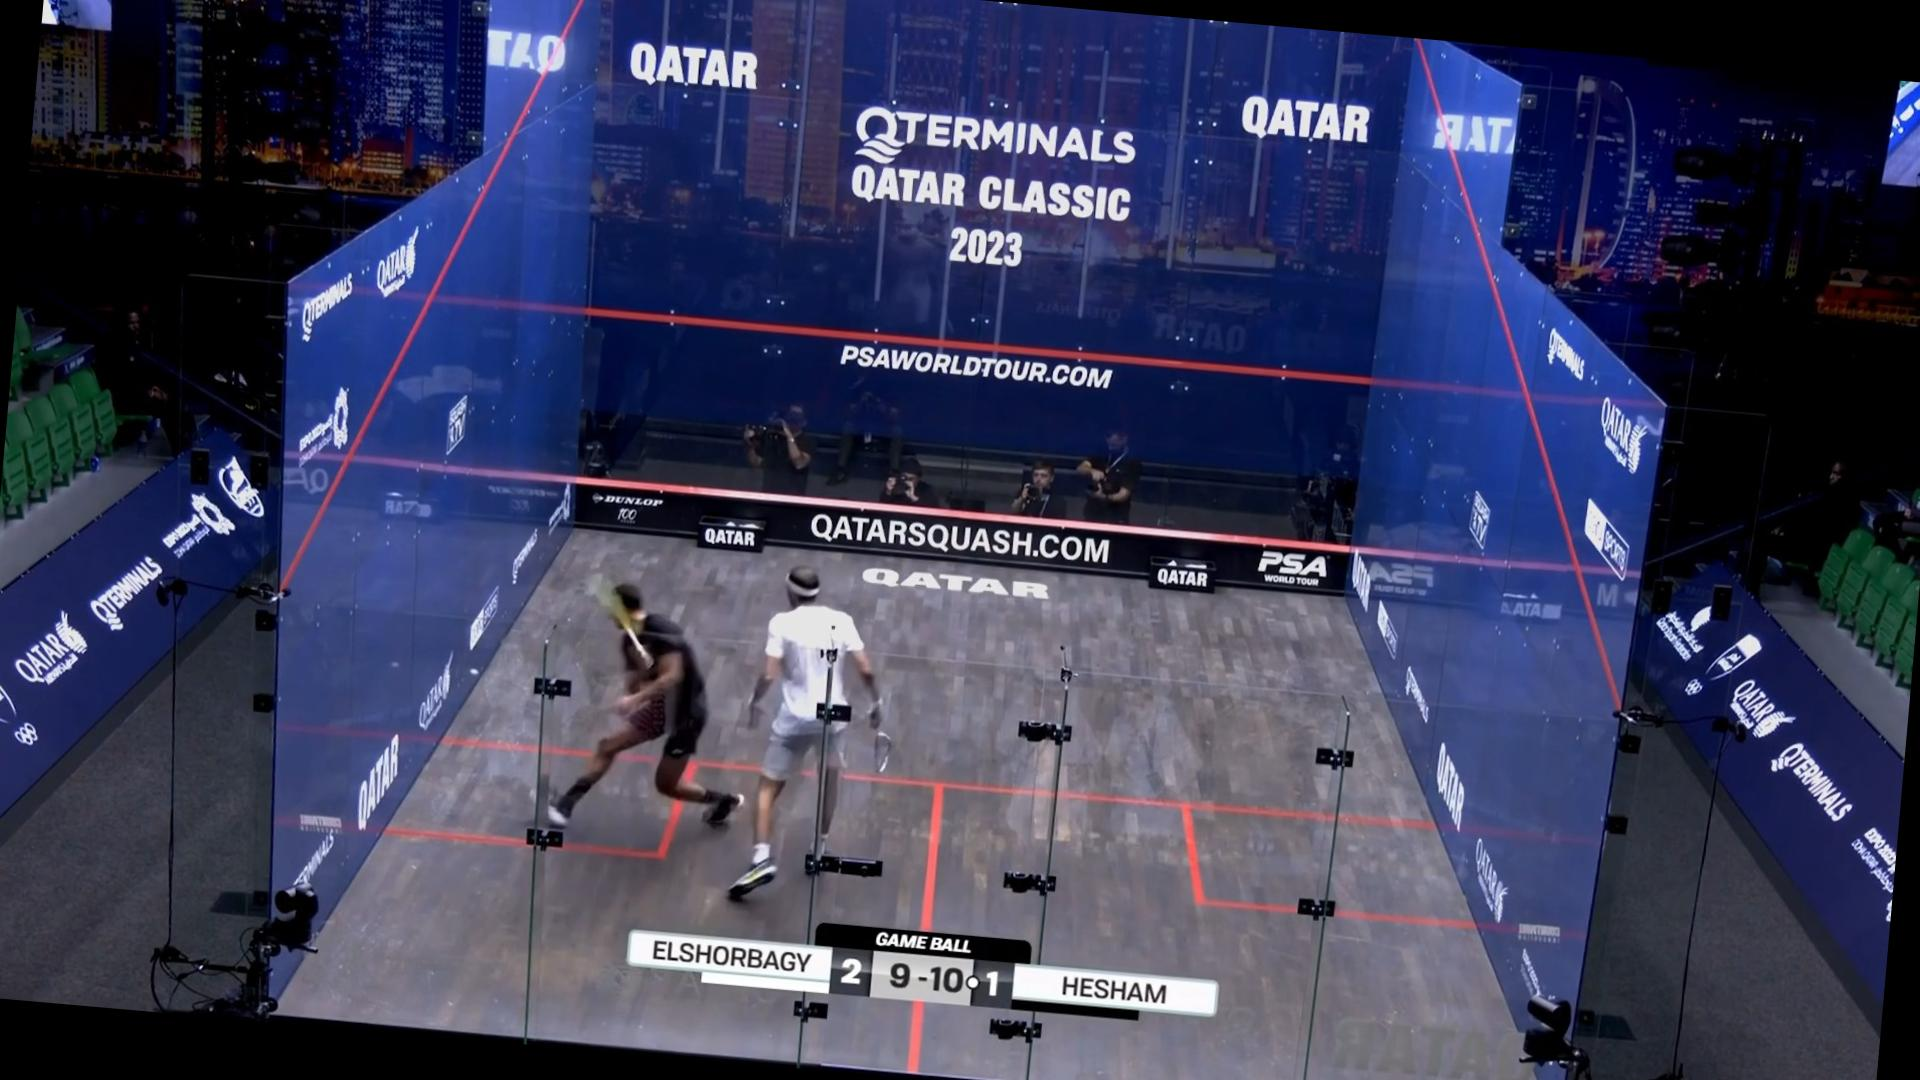Squash-Ball: (463, 658, 484, 684)
